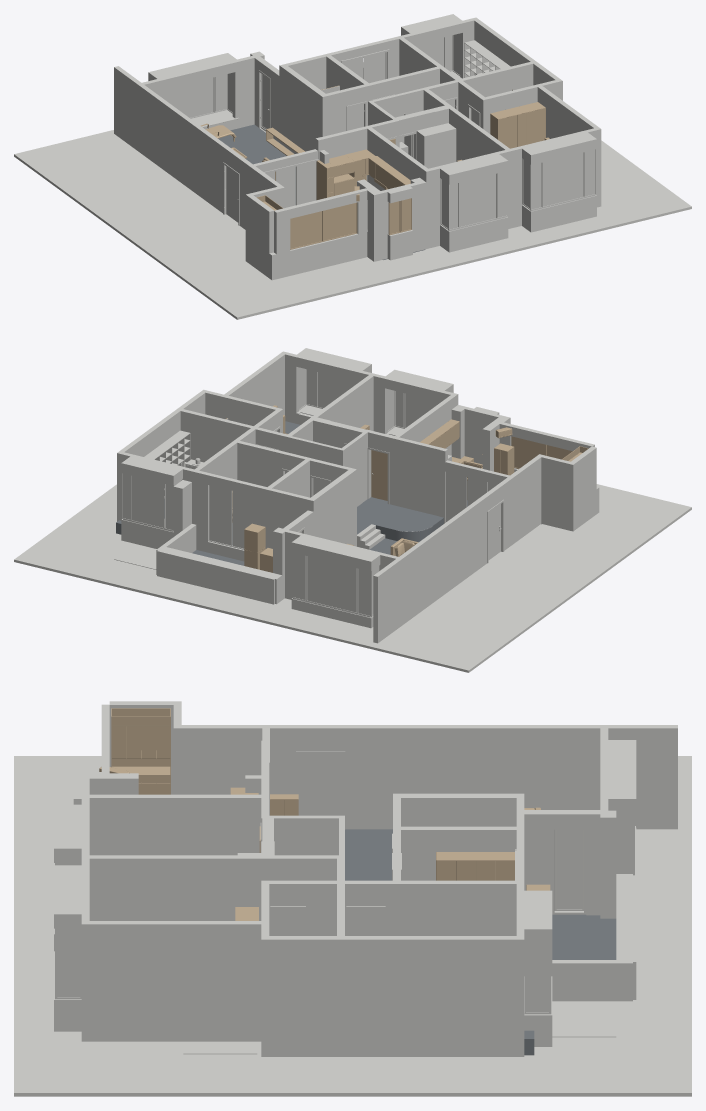
The model's file is interaction_proxy.glb.
3 views of the same model, one above another, from view 1: azimuth 30°, elevation 25°; view 2: azimuth 150°, elevation 25°; view 3: azimuth 270°, elevation 25° (orthographic). The views are drawn at different scales.
Parts seen in each view (by area): view 1: SITE_GROUND.001, VIEW_WALL_W_wall_md_0006.001, VIEW_WALL_LIVING_FIX_GUEST_BATH_FULL_WALL.001, VIEW_WALL_W_wall_md_0042.001, VIEW_WALL_W_wall_md_0035.001, V4_W-MB-S_FRONT_GLASS_1.001, VIEW_WALL_W_wall_md_0034.001, V4_W-SMB-S_FRONT_GLASS_1.001, VIEW_WALL_W_wall_md_0007.001, VIEW_WALL_W_wall_md_0021.001, VIEW_WALL_W_wall_md_0030.001, VIEW_WALL_W_wall_md_0060.001 (+44 smaller); view 2: SITE_GROUND.001, VIEW_WALL_W_wall_md_0006.001, VIEW_WALL_W_wall_md_0062.001, VIEW_WALL_W_wall_md_0044.001, VIEW_WALL_W_wall_md_0005.001, VIEW_WALL_W_wall_md_0055.001, R4_UPPER_FLOOR_CONTINUOUS_STRAIGHT_THRESHOLD.001, VIEW_WALL_W_wall_md_0043.001, VIEW_WALL_LIVING_FIX_GUEST_BATH_FULL_WALL.001, LIVING_FIX_BAY_FRONT_GLASS_1.001, VIEW_WALL_W_wall_md_0049.001, VIEW_WALL_W_wall_md_0007.001 (+49 smaller); view 3: SITE_GROUND.001, VIEW_WALL_W_wall_md_0030.001, VIEW_WALL_W_wall_md_0033.001, VIEW_WALL_W_wall_md_0006.001, VIEW_WALL_W_wall_md_0021.001, VIEW_WALL_W_wall_md_0015.001, VIEW_WALL_W_wall_md_0032.001, VIEW_WALL_W_wall_md_0005.001, VIEW_WALL_W_wall_md_0025.001, FLOOR_LOWER.001, VIEW_WALL_W_wall_md_0007.001, VIEW_WALL_W_wall_md_0019.001 (+37 smaller).
Boxes of the visible parts, x1,y1,x2,y2 form: SITE_GROUND.001: [14, 128, 691, 319]; VIEW_WALL_W_wall_md_0006.001: [139, 85, 227, 212]; VIEW_WALL_LIVING_FIX_GUEST_BATH_FULL_WALL.001: [282, 66, 325, 153]; VIEW_WALL_W_wall_md_0042.001: [276, 232, 367, 278]; VIEW_WALL_W_wall_md_0035.001: [533, 139, 594, 231]; V4_W-MB-S_FRONT_GLASS_1.001: [543, 152, 583, 206]; VIEW_WALL_W_wall_md_0034.001: [451, 161, 505, 251]; V4_W-SMB-S_FRONT_GLASS_1.001: [460, 174, 496, 226]; VIEW_WALL_W_wall_md_0007.001: [114, 66, 141, 150]; VIEW_WALL_W_wall_md_0021.001: [449, 107, 509, 161]; VIEW_WALL_W_wall_md_0030.001: [537, 86, 598, 138]; VIEW_WALL_W_wall_md_0060.001: [232, 55, 254, 128]; SITE_GROUND.001: [14, 484, 691, 672]; VIEW_WALL_W_wall_md_0006.001: [399, 495, 487, 624]; VIEW_WALL_W_wall_md_0062.001: [157, 547, 277, 604]; VIEW_WALL_W_wall_md_0044.001: [396, 437, 441, 516]; VIEW_WALL_W_wall_md_0005.001: [499, 456, 541, 550]; VIEW_WALL_W_wall_md_0055.001: [196, 470, 266, 561]; R4_UPPER_FLOOR_CONTINUOUS_STRAIGHT_THRESHOLD.001: [116, 421, 443, 544]; VIEW_WALL_W_wall_md_0043.001: [541, 455, 575, 531]; VIEW_WALL_LIVING_FIX_GUEST_BATH_FULL_WALL.001: [311, 470, 354, 545]; LIVING_FIX_BAY_FRONT_GLASS_1.001: [307, 556, 356, 612]; VIEW_WALL_W_wall_md_0049.001: [180, 409, 253, 462]; VIEW_WALL_W_wall_md_0007.001: [373, 559, 400, 643]; SITE_GROUND.001: [14, 756, 691, 1096]; VIEW_WALL_W_wall_md_0030.001: [89, 921, 261, 1041]; VIEW_WALL_W_wall_md_0033.001: [345, 936, 516, 1056]; VIEW_WALL_W_wall_md_0006.001: [345, 725, 600, 829]; VIEW_WALL_W_wall_md_0021.001: [89, 855, 261, 920]; VIEW_WALL_W_wall_md_0015.001: [89, 794, 261, 855]; VIEW_WALL_W_wall_md_0032.001: [261, 936, 336, 1056]; VIEW_WALL_W_wall_md_0005.001: [181, 725, 296, 794]; VIEW_WALL_W_wall_md_0025.001: [401, 880, 516, 935]; FLOOR_LOWER.001: [345, 829, 616, 959]; VIEW_WALL_W_wall_md_0007.001: [608, 725, 677, 829]; VIEW_WALL_W_wall_md_0019.001: [401, 826, 516, 880].
Size of the model in its own units: 20 by 3.37 by 17.
